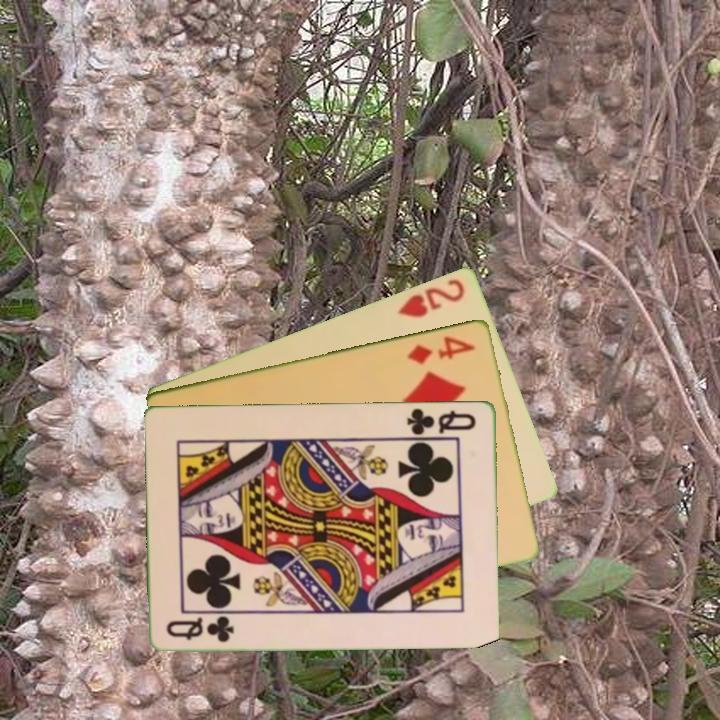2h: (394, 274, 468, 320)
4d: (404, 332, 478, 367)
Qc: (404, 404, 479, 438), (163, 613, 237, 645)
